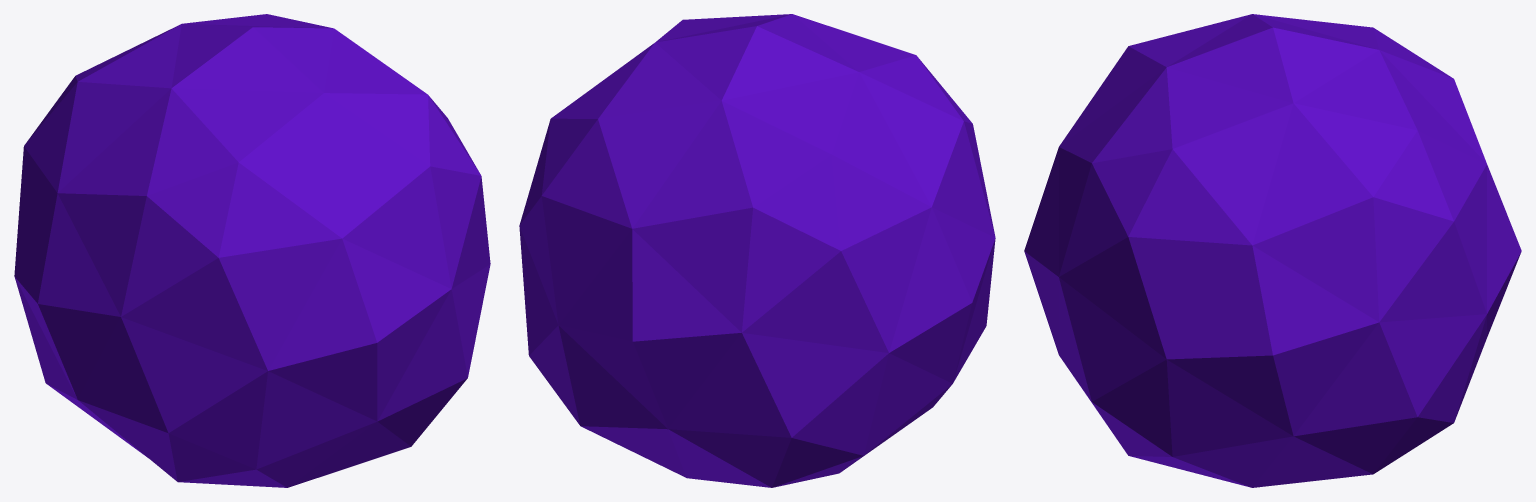
Rendered from neutronStar.obj.
3 renders of one model, left to right at view 1: azimuth 30°, elevation 25°; view 2: azimuth 150°, elevation 25°; view 3: azimuth 270°, elevation 25°, orthographic.
Parts seen in each view (by area): view 1: cco.stl.002; view 2: cco.stl.002; view 3: cco.stl.002.
Boxes of the visible parts, left/top/right/bottom form: cco.stl.002: left=14, top=14, right=490, bottom=487; cco.stl.002: left=519, top=14, right=995, bottom=487; cco.stl.002: left=1024, top=14, right=1521, bottom=487.
Size of the model in its own units: 2.14 by 2.13 by 2.15.
